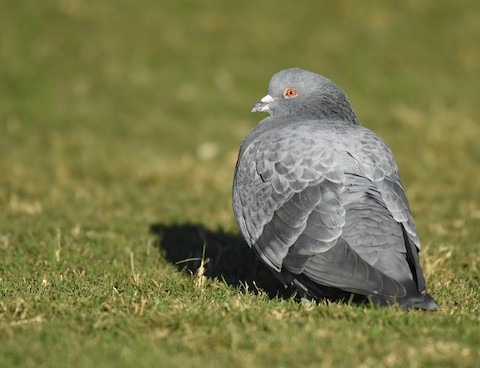pigeon: (224, 60, 444, 317)
